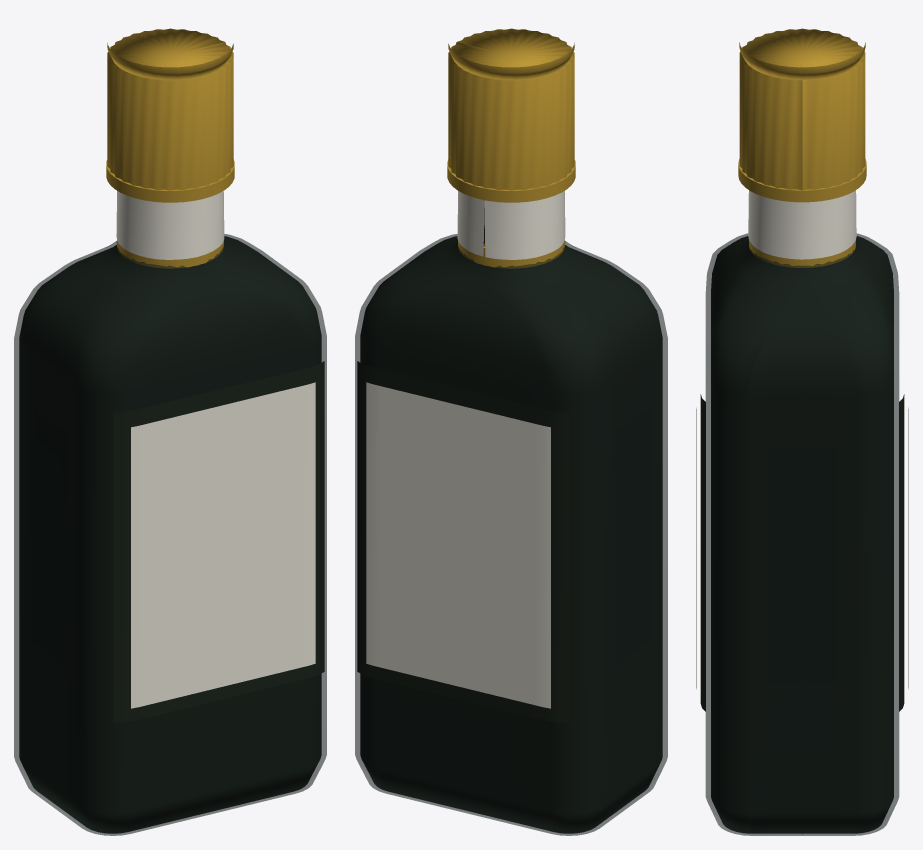
The model's file is bottle-herbal.glb.
3 views of the same model, side by side, from view 1: azimuth 30°, elevation 25°; view 2: azimuth 150°, elevation 25°; view 3: azimuth 270°, elevation 25° (orthographic).
Parts seen in each view (by area): view 1: glass_body, liquid_body, label_slot, cap, panel_plate, emboss_slot_left, label_slot_neck, cap_skirt, cap_top, neck_band; view 2: glass_body, liquid_body, label_slot_back, cap, panel_plate_back, emboss_slot_left, label_slot_neck, cap_skirt, cap_top, neck_band; view 3: glass_body, liquid_body, cap, emboss_slot_right, label_slot_neck, panel_plate, panel_plate_back, cap_skirt, cap_top, neck_band.
Boxes of the visible parts, <box> form: glass_body: <box>14,234,326,835</box>; liquid_body: <box>19,236,321,833</box>; label_slot: <box>131,382,315,708</box>; cap: <box>107,28,233,190</box>; panel_plate: <box>113,361,324,723</box>; emboss_slot_left: <box>32,407,66,665</box>; label_slot_neck: <box>116,191,224,259</box>; cap_skirt: <box>106,159,234,202</box>; cap_top: <box>107,42,233,80</box>; neck_band: <box>117,240,223,268</box>; glass_body: <box>355,208,667,835</box>; liquid_body: <box>360,208,662,833</box>; label_slot_back: <box>366,382,550,708</box>; cap: <box>448,28,574,190</box>; panel_plate_back: <box>357,361,568,723</box>; emboss_slot_left: <box>615,407,649,665</box>; label_slot_neck: <box>457,191,565,259</box>; cap_skirt: <box>447,159,575,202</box>; cap_top: <box>448,42,574,80</box>; neck_band: <box>458,240,564,268</box>; glass_body: <box>705,233,899,835</box>; liquid_body: <box>711,236,893,833</box>; cap: <box>739,28,865,190</box>; emboss_slot_right: <box>767,448,837,681</box>; label_slot_neck: <box>748,190,856,259</box>; panel_plate: <box>700,394,705,711</box>; panel_plate_back: <box>899,394,904,711</box>; cap_skirt: <box>738,159,866,202</box>; cap_top: <box>739,42,865,80</box>; neck_band: <box>749,240,855,267</box>.
Bounding box in the file's own units: 0.088 × 0.253 × 0.0658.
